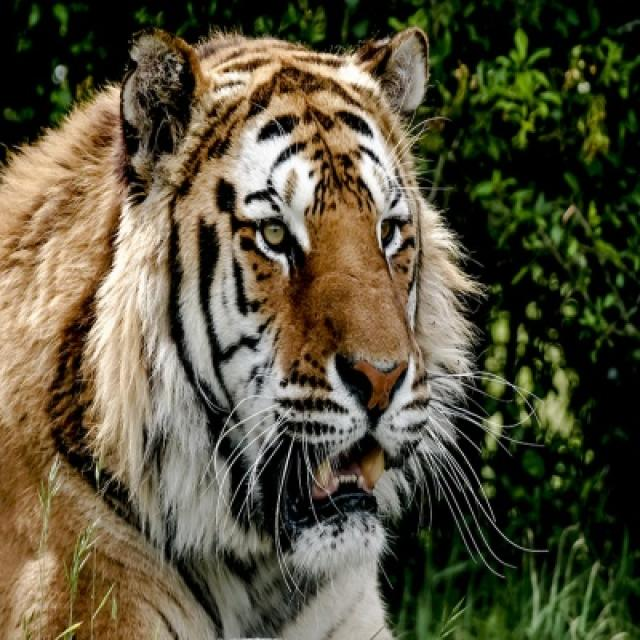Tiger: (0, 26, 473, 638)
